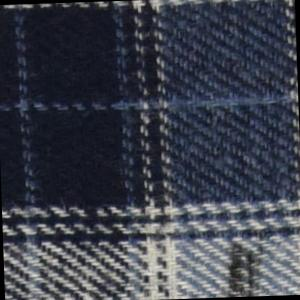Stain: (222, 227, 273, 298)
